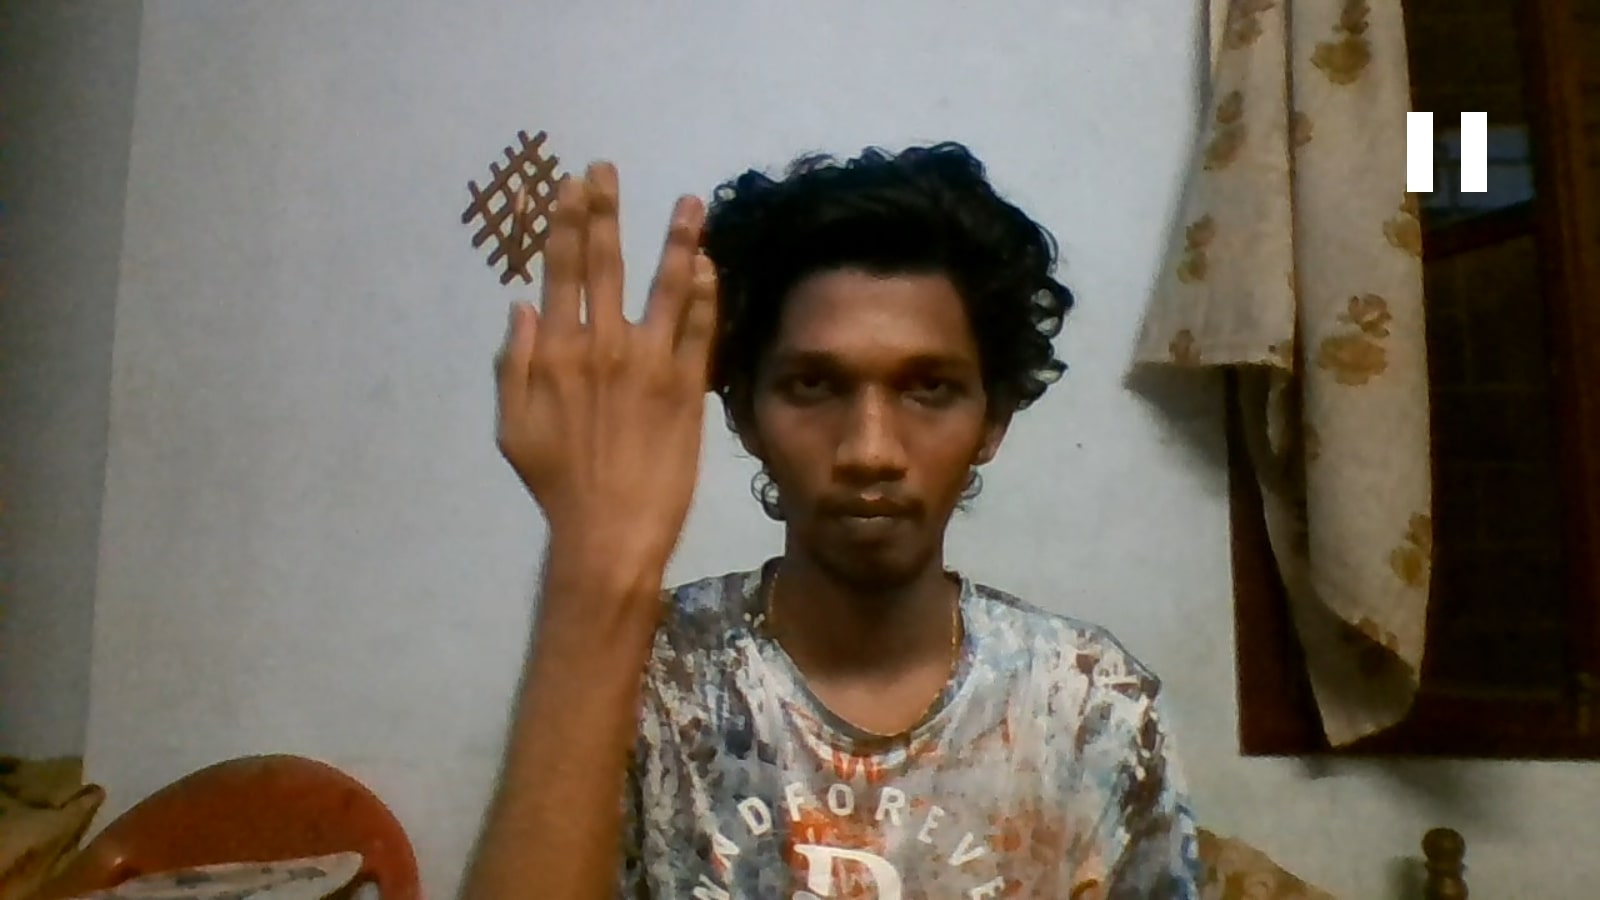LiveLong: (495, 160, 715, 578)
